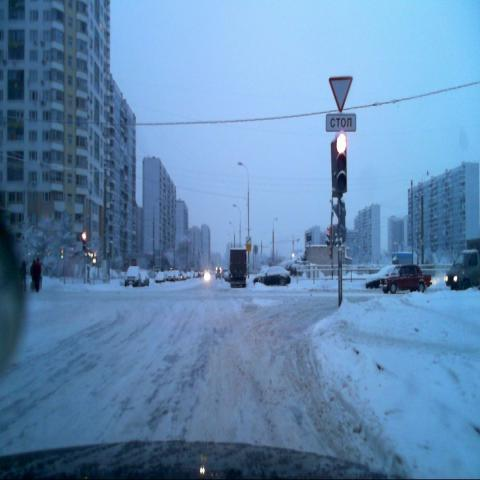2_4: (328, 75, 352, 113)
6_16: (326, 115, 356, 130)
